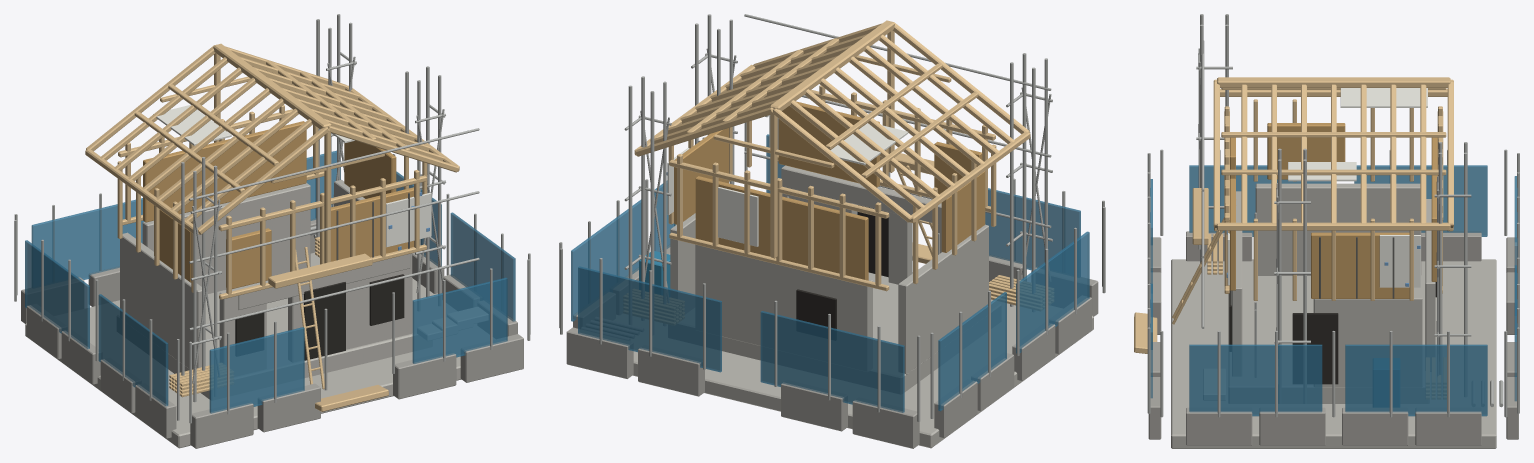
The model's file is construction_house_frame.glb.
3 renders of one model, left to right at view 1: azimuth 30°, elevation 25°; view 2: azimuth 150°, elevation 25°; view 3: azimuth 270°, elevation 25°, orthographic. The views are drawn at different scales.
Visible parts, largest first — view 1: site concrete slab with dusty staging area, left concrete side wall, slightly raised house foundation, front right blue mesh fence, front left blue mesh fence, rear concrete wall with window gaps, rear osb sheathing broad wall, rear blue mesh fence left, left blue mesh fence lower, left blue mesh fence upper, right blue mesh fence lower, front concrete right bay (+67 smaller); view 2: rear concrete wall with window gaps, site concrete slab with dusty staging area, rear blue mesh fence left, rear blue mesh fence right, left concrete side wall, rear osb sheathing broad wall, slightly raised house foundation, left blue mesh fence lower, left blue mesh fence upper, front left blue mesh fence, right blue mesh fence upper, front right osb sheathing panel (+64 smaller); view 3: site concrete slab with dusty staging area, right blue mesh fence upper, right blue mesh fence lower, slightly raised house foundation, left concrete side wall, right concrete side back wall, right side osb sheathing panel, left blue mesh fence upper, right side open doorway void, right side jersey barrier 1, right side jersey barrier 3, right side jersey barrier 0 (+44 smaller).
Boxes of the visible parts, x1,y1,x2,y2 form: site concrete slab with dusty staging area: (25,252,493,448); left concrete side wall: (120,232,205,369); slightly raised house foundation: (117,280,431,399); front right blue mesh fence: (412,277,507,363); front left blue mesh fence: (209,327,304,413); rear concrete wall with window gaps: (142,183,310,293); rear osb sheathing broad wall: (143,121,306,222); rear blue mesh fence left: (31,198,144,279); left blue mesh fence lower: (98,294,168,406); left blue mesh fence upper: (25,240,89,348); right blue mesh fence lower: (450,212,515,321); front concrete right bay: (346,253,412,349); rear concrete wall with window gaps: (695,244,872,371); site concrete slab with dusty staging area: (614,272,1093,448); rear blue mesh fence left: (760,311,904,412); rear blue mesh fence right: (578,266,721,372); left concrete side wall: (898,224,988,374); rear osb sheathing broad wall: (695,176,868,280); slightly raised house foundation: (668,272,1000,393); left blue mesh fence lower: (1016,231,1089,353); left blue mesh fence upper: (938,292,1006,411); front left blue mesh fence: (985,188,1080,270); right blue mesh fence upper: (571,199,641,321); front right osb sheathing panel: (778,101,879,187); site concrete slab with dusty staging area: (1171,259,1496,448); right blue mesh fence upper: (1345,344,1487,416); right blue mesh fence lower: (1189,344,1322,416); slightly raised house foundation: (1228,272,1429,403); left concrete side wall: (1255,183,1421,275); right concrete side back wall: (1313,294,1422,387); right side osb sheathing panel: (1311,232,1409,298); left blue mesh fence upper: (1354,165,1487,236); right side open doorway void: (1292,313,1338,384); right side jersey barrier 1: (1259,407,1325,445); right side jersey barrier 3: (1415,408,1481,445); right side jersey barrier 0: (1186,407,1252,445).
Size of the model in its own units: 1.88 by 1.36 by 1.68.
